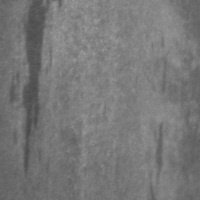inclusion: (8, 1, 53, 180), (142, 117, 170, 199), (151, 54, 173, 92)
